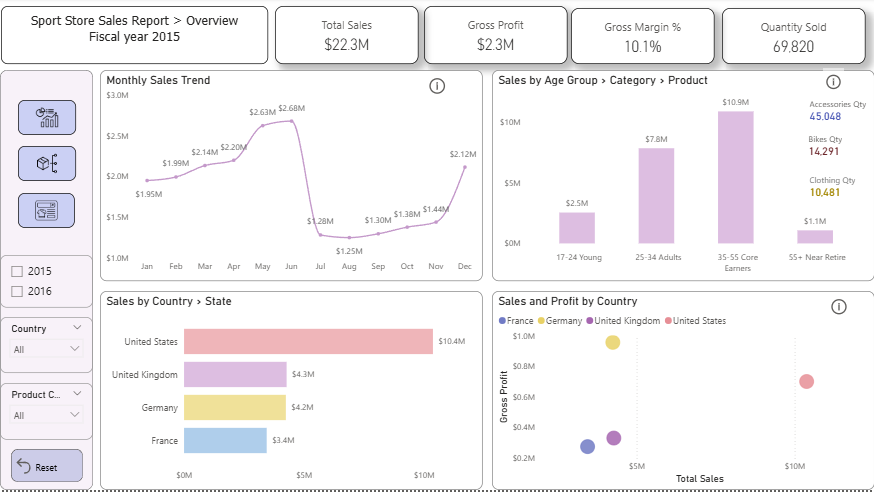

This screenshot's page, from the dashboard's own definition file:
{"tool":"powerbi","page":{"name":"Sales Overview","canvas":[1280,720],"ordinal":0},"visuals":[{"type":"shape","box":[0,105.4,136.1,614.6],"z":1000},{"type":"cardVisual","fields":{"Data":["Metric.Total Quantity"]},"box":[1056.6,14.6,210,82],"z":2000},{"type":"cardVisual","fields":{"Data":["Metric.Gross Profit"]},"box":[620.5,11.7,210,84.9],"z":3000},{"type":"cardVisual","fields":{"Data":["Metric.GROSS Margin %"]},"box":[835.6,14.6,210,82],"z":4000},{"type":"clusteredColumnChart","title":"Sales by Age Group > Category > Product","fields":{"Category":["factsales.Customer Age Group","factsales.Product Category","factsales.Sub Category"],"Y":["Metric.Total Sales"]},"box":[720,105.3,560.5,308.8],"z":4000,"group":"g1"},{"type":"cardVisual","fields":{"Data":["Metric.Total Sales"]},"box":[402.4,11.7,210,84.9],"z":5000},{"type":"lineChart","title":"Monthly Sales Trend","fields":{"Y":["Metric.Total Sales"],"Category":["Calendar.Month Short"]},"box":[146.3,105.4,560,308.8],"z":6000},{"type":"clusteredBarChart","title":"Sales by Country > State","fields":{"Category":["factsales.Country","factsales.State"],"Y":["Metric.Total Sales"]},"box":[146.3,428.8,560.5,291.2],"z":7000},{"type":"scatterChart","title":"Sales and Profit by Country","fields":{"X":["Metric.Total Sales"],"Y":["Metric.Gross Profit"],"Category":["factsales.Country"],"Series":["factsales.Country"]},"box":[720,428.8,560.5,291.2],"z":8000},{"type":"slicer","fields":{"Values":["Calendar.Year"]},"box":[0,375.7,135.7,77.1],"z":9000},{"type":"slicer","fields":{"Values":["factsales.Product Category"]},"box":[0,563.4,136.1,83.4],"z":10000},{"type":"slicer","fields":{"Values":["factsales.Country"]},"box":[0,466.8,136.1,82],"z":11000},{"type":"actionButton","box":[623.9,109,32.8,40.3],"z":12000},{"type":"cardVisual","fields":{"Data":["Metric.Accessories Sold"]},"box":[1173.7,136,106.8,48.3],"z":14000,"group":"g1"},{"type":"actionButton","box":[16.1,660,105.4,48.3],"z":14000},{"type":"textbox","box":[1.5,11.7,390.7,84.9],"z":15000},{"type":"cardVisual","fields":{"Data":["Metric.Bikes Sold"]},"box":[1172.2,187.3,95.1,49.8],"z":15000,"group":"g1"},{"type":"cardVisual","fields":{"Data":["Metric.Clothing Sold"]},"box":[1173.7,247.3,98,49.8],"z":16000,"group":"g1"},{"type":"image","box":[26.3,285.4,83.4,51.2],"z":18000},{"type":"group","id":"g1","title":"Group 1","box":[720,105.3,560.5,308.8],"z":19000,"group":"g2"},{"type":"actionButton","box":[1211.7,431.7,32.2,41],"z":20000},{"type":"actionButton","box":[1204.4,102.4,30.7,41],"z":21000,"group":"g2"},{"type":"group","id":"g2","title":"Group 2","box":[720,102.4,560.5,311.7],"z":21001},{"type":"image","box":[26.3,149.3,84.9,51.2],"z":21002},{"type":"image","box":[26.3,216.6,84.9,51],"z":21003}]}

Visuals, with their boxes in screenshot pixels (x1, y1, x2, y2), scaled from the page's 1280x720 canvas onto the 874x493 screenshot:
shape: l=0, t=72, r=93, b=492
cardVisual - Metric.Total Quantity: l=721, t=10, r=865, b=66
cardVisual - Metric.Gross Profit: l=424, t=8, r=567, b=66
cardVisual - Metric.GROSS Margin %: l=571, t=10, r=714, b=66
"Sales by Age Group > Category > Product" clusteredColumnChart: l=492, t=72, r=873, b=284
cardVisual - Metric.Total Sales: l=275, t=8, r=418, b=66
"Monthly Sales Trend" lineChart: l=100, t=72, r=482, b=284
"Sales by Country > State" clusteredBarChart: l=100, t=294, r=483, b=492
"Sales and Profit by Country" scatterChart: l=492, t=294, r=873, b=492
slicer - Calendar.Year: l=0, t=257, r=93, b=310
slicer - factsales.Product Category: l=0, t=386, r=93, b=443
slicer - factsales.Country: l=0, t=320, r=93, b=376
actionButton: l=426, t=75, r=448, b=102
cardVisual - Metric.Accessories Sold: l=801, t=93, r=873, b=126
actionButton: l=11, t=452, r=83, b=485
textbox: l=1, t=8, r=268, b=66
cardVisual - Metric.Bikes Sold: l=800, t=128, r=865, b=162
cardVisual - Metric.Clothing Sold: l=801, t=169, r=868, b=203
image: l=18, t=195, r=75, b=230
"Group 1" group: l=492, t=72, r=873, b=284
actionButton: l=827, t=296, r=849, b=324
actionButton: l=822, t=70, r=843, b=98
"Group 2" group: l=492, t=70, r=873, b=284
image: l=18, t=102, r=76, b=137
image: l=18, t=148, r=76, b=183
